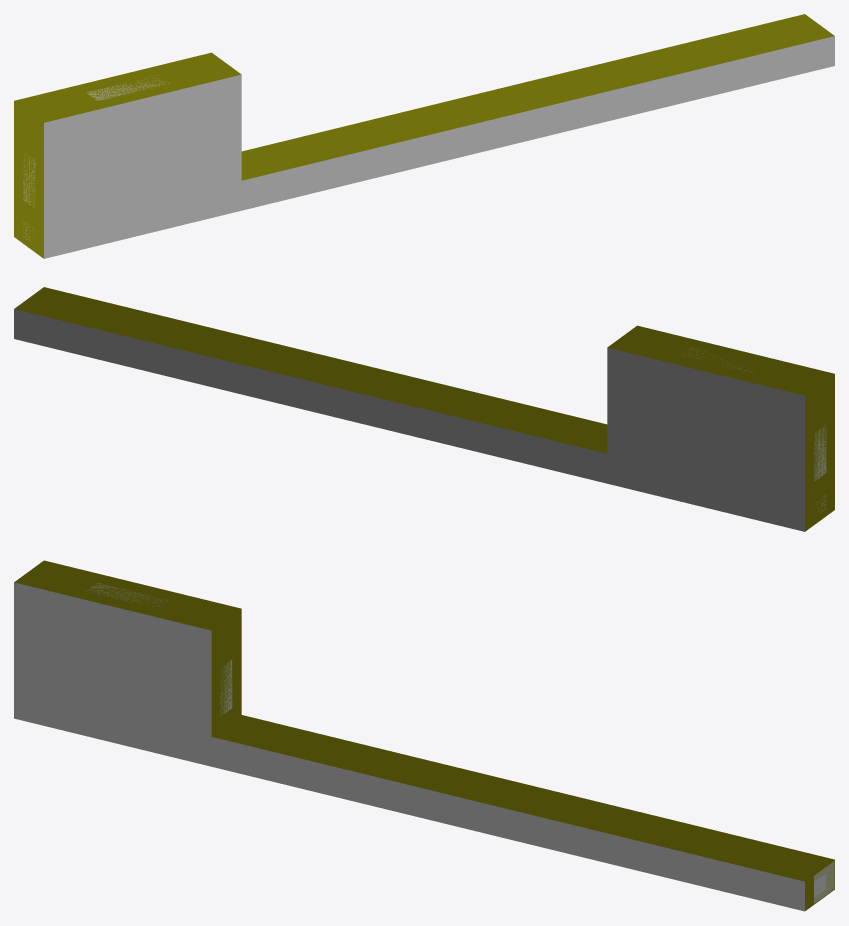
The model's file is idf.obj.
The picture shows the model from 3 angles, top to bottom: view 1: azimuth 30°, elevation 25°; view 2: azimuth 150°, elevation 25°; view 3: azimuth 330°, elevation 25°; orthographic projection.
Bounding box in the file's own units: 46.33 × 7.62 × 3.05.
